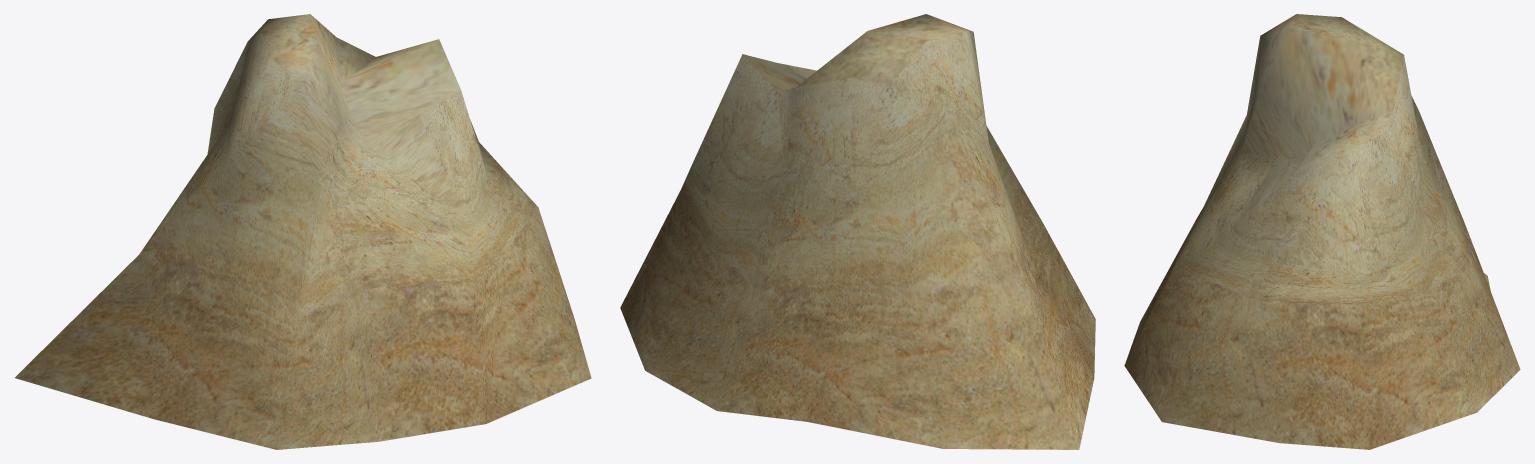
The model's file is rock_beach_spike_a1_l2.fbx.
The picture shows the model from 3 angles, left to right: view 1: azimuth 30°, elevation 25°; view 2: azimuth 150°, elevation 25°; view 3: azimuth 270°, elevation 25°; orthographic projection. The views are drawn at different scales.
Visible parts, largest first — view 1: mesh_node; view 2: mesh_node; view 3: mesh_node.
Boxes of the visible parts, bbox=[...] form: mesh_node: bbox=[15, 14, 591, 449]; mesh_node: bbox=[620, 14, 1095, 449]; mesh_node: bbox=[1124, 14, 1520, 449].
Bounding box in the file's own units: 7.56 × 4.83 × 5.72.
Materials: 1 (1 with a texture image).
